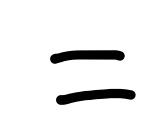eqv: (49, 50, 137, 106)
